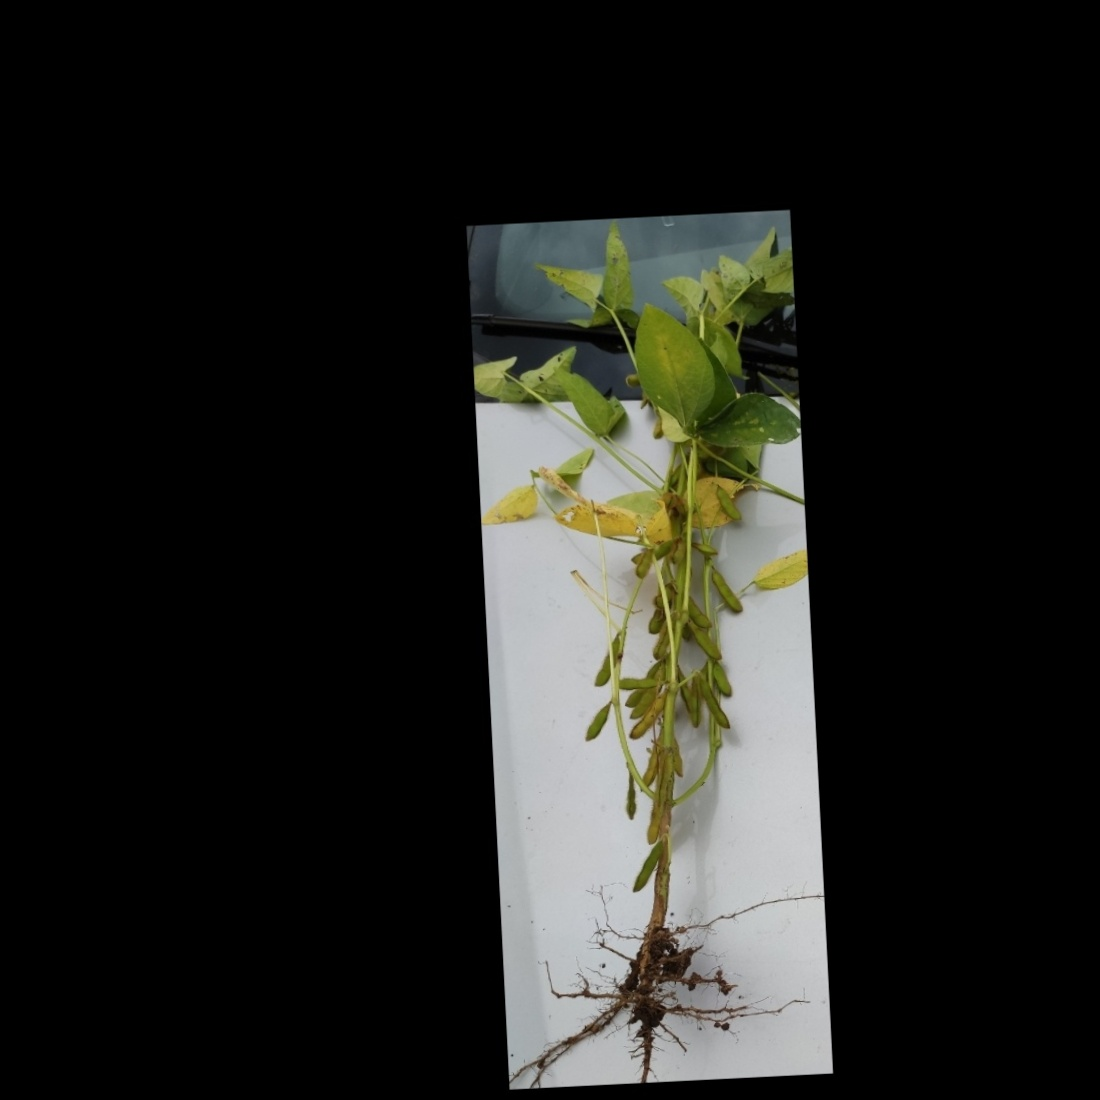pod: (696, 674, 732, 734), (628, 840, 664, 895), (625, 694, 666, 741), (581, 697, 617, 745), (590, 637, 622, 691), (687, 623, 725, 665), (710, 567, 742, 615), (713, 482, 746, 523), (712, 659, 734, 700)
soy: (517, 236, 801, 1047)
